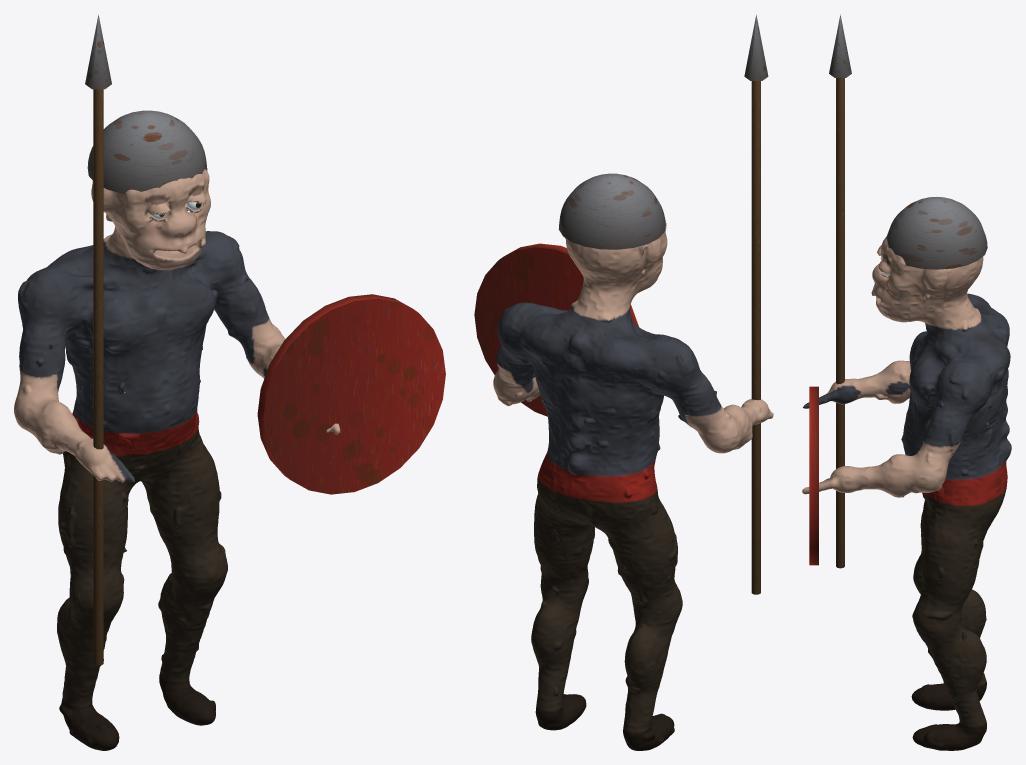
Rendered from human_guard.glb.
3 views of the same model, side by side, from view 1: azimuth 30°, elevation 25°; view 2: azimuth 150°, elevation 25°; view 3: azimuth 270°, elevation 25° (orthographic). The views are drawn at different scales.
Bounding box in the file's own units: 1.07 × 2.25 × 0.6353.
7 materials, 6 textured.
